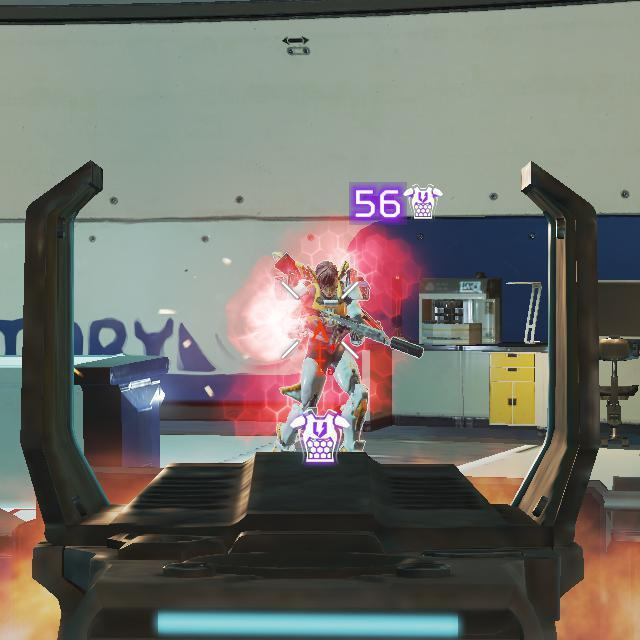avatar: (275, 251, 373, 454)
